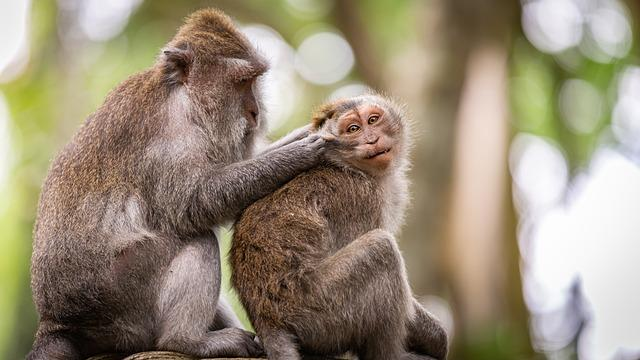Non_Gorille: (30, 0, 503, 360)
